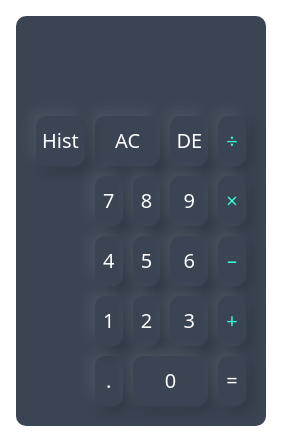
it: Calculator Component Tests › TC04 - Subtraction Operation
Click the button "5" at (146, 261), box [133,236,160,286]
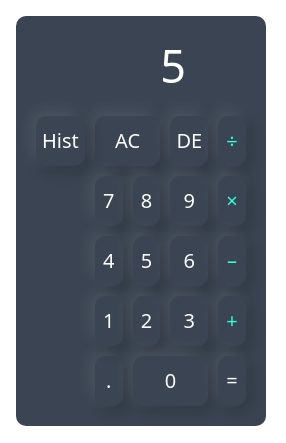
Click the button "–" at (232, 261), box [218,236,246,286]
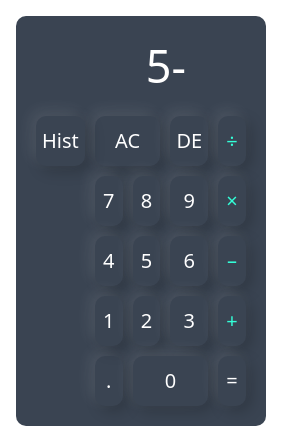
Click the button "2" at (146, 321), box [133,296,160,346]
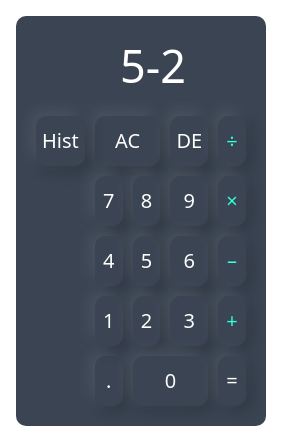
Click the button "=" at (232, 381), box [218,356,246,406]
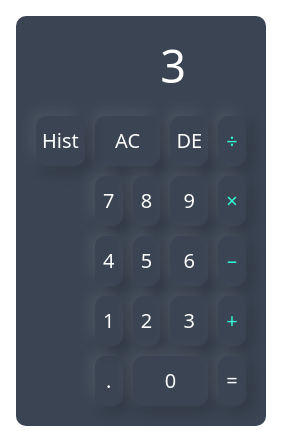
Result: the field with test id "calculator-display" holds "3" at [36,36,206,96]
